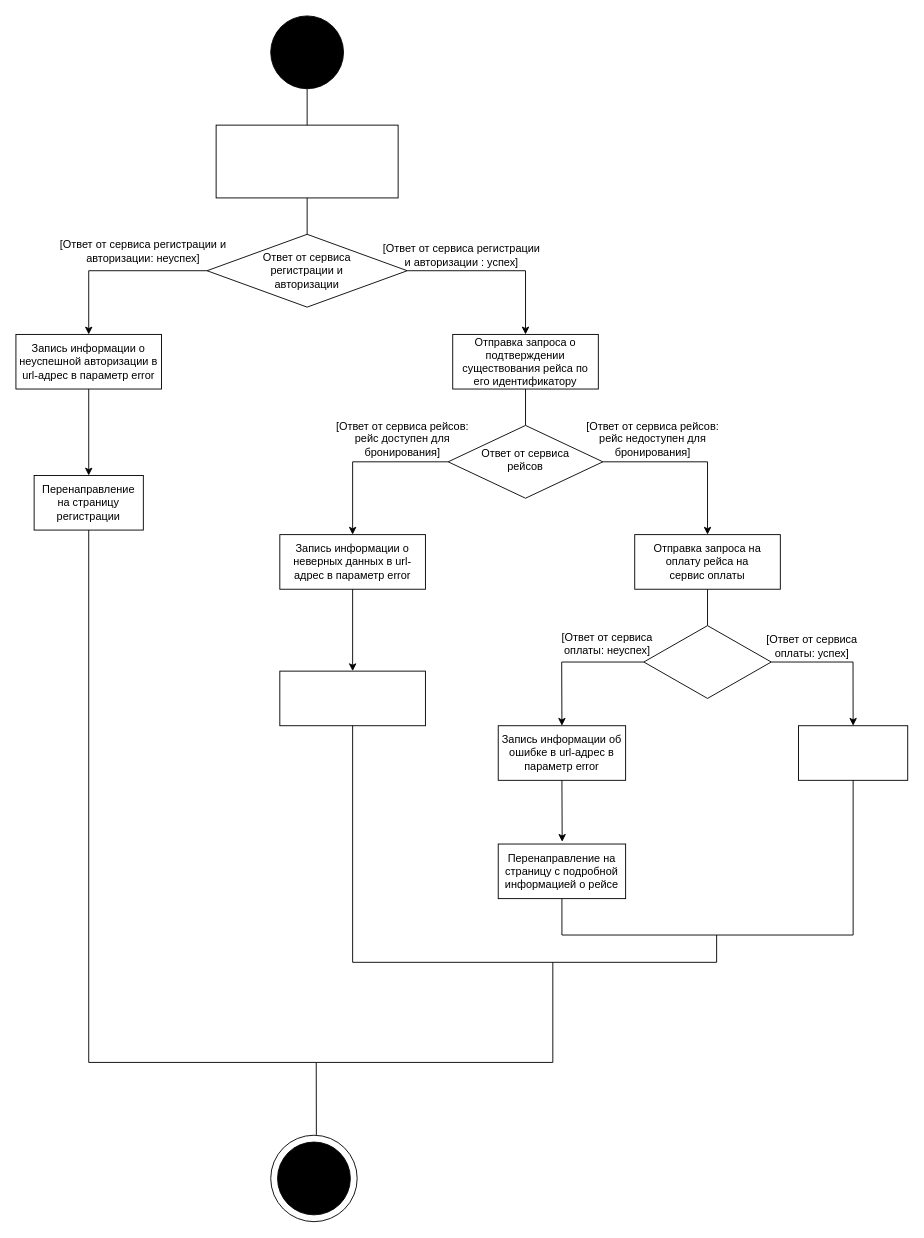
Image size: 924x1238. Some labels were removed from this diagram. Here are the shapes that lost their labels. From the top down, the centre of each, then its label:
At (306,161): "Отправка запроса о подтверждении существования клиента в базе".
At (707,661): "Ответ от сервиса оплаты".
At (352,698): "Перенаправление на страницу со списком рейсов".
At (853,752): "Отправка запроса о создании записи о бронировании рейса".
